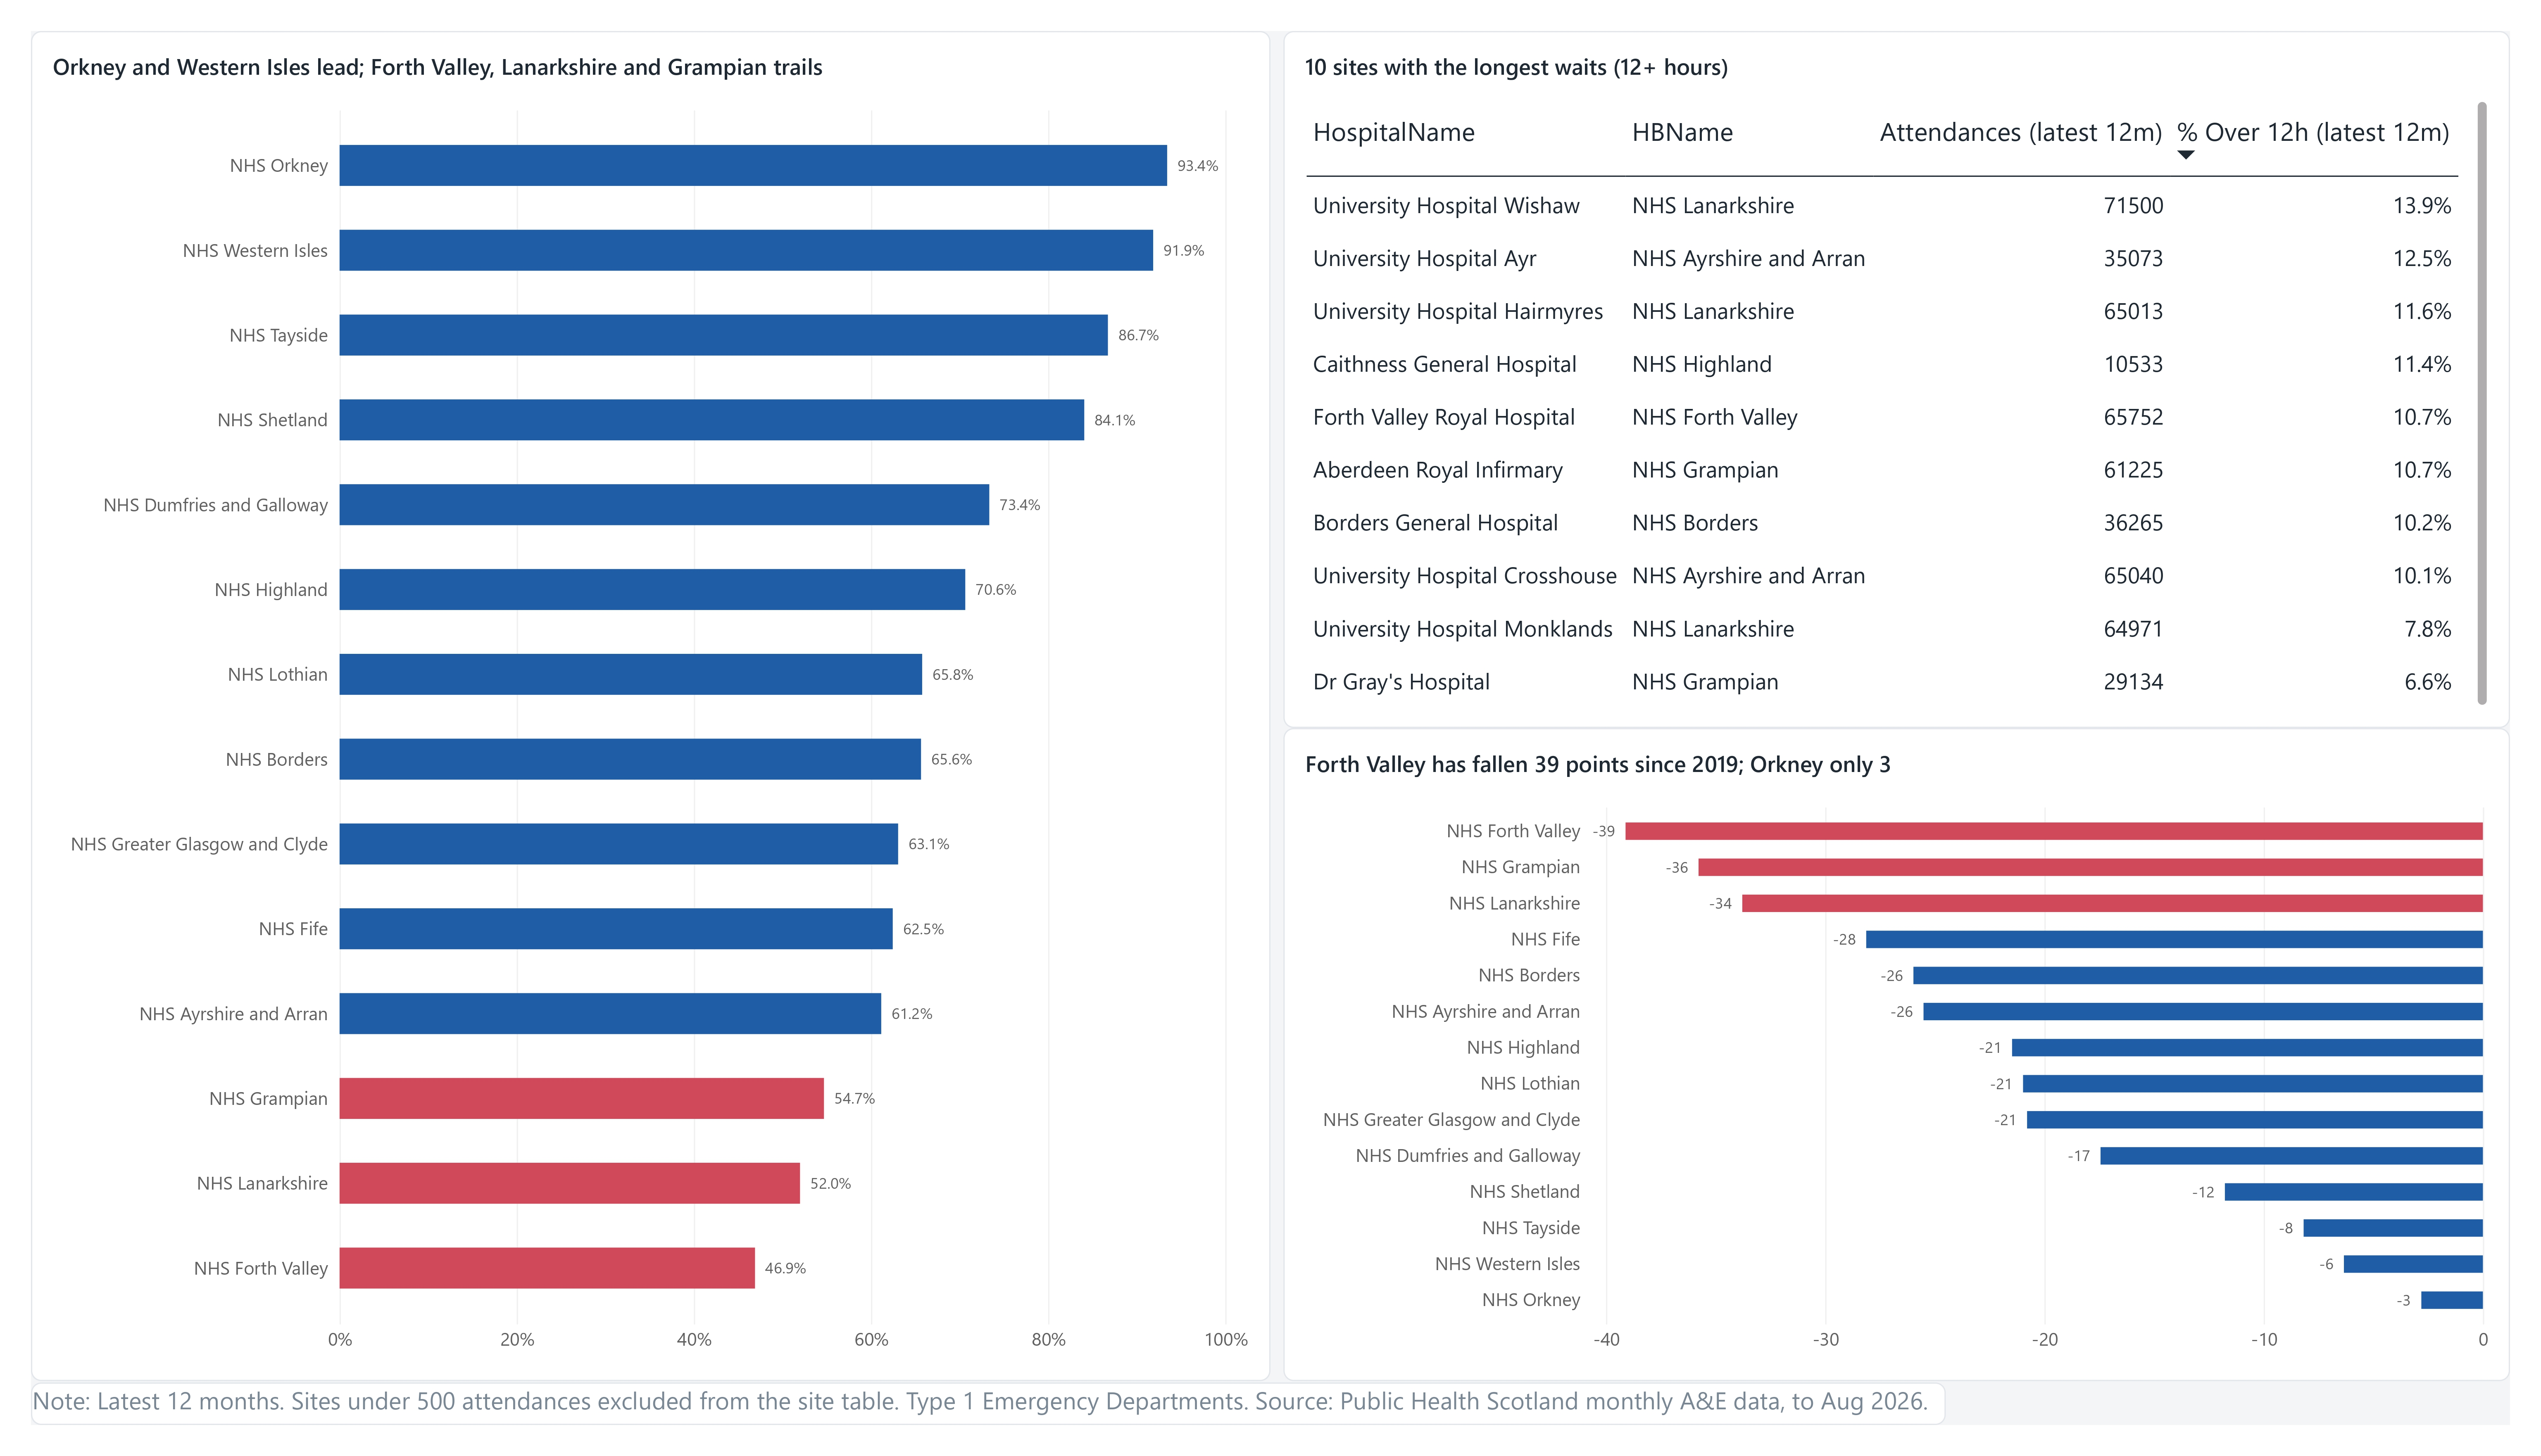

Layout of this report page (visuals, bound fields, positions):
{"tool":"powerbi","page":{"name":"Boards and Sites","canvas":[1920,1080],"ordinal":1},"visuals":[{"type":"barChart","title":"Orkney and Western Isles lead; Forth Valley, Lanarkshire and Grampian trails","fields":{"Category":["ae_clean.HBName"],"Y":["ae_clean.% Within 4h (latest 12m)"]},"box":[0,0,960,1045.7],"z":0},{"type":"tableEx","title":"10 sites with the longest waits (12+ hours)","fields":{"Values":["ae_clean.HospitalName","ae_clean.HBName","ae_clean.Attendances (latest 12m)","ae_clean.% Over 12h (latest 12m)"]},"box":[970,0,950,540],"z":1000},{"type":"barChart","title":"Forth Valley has fallen 39 points since 2019; Orkney only 3","fields":{"Category":["ae_clean.HBName"],"Y":["ae_clean.Change vs 2019 (pts)"]},"box":[970,540,950,505.7],"z":2000},{"type":"textbox","box":[0,1047.1,1482.9,32.9],"z":2001}]}

Visuals, with their boxes on the page's 1920x1080 design canvas (x1, y1, x2, y2). These are canvas units, not pixel positions in the 2541x1456 screenshot, which may show the page scaled, cropped or inside an application window:
"Orkney and Western Isles lead; Forth Valley, Lanarkshire and Grampian trails" barChart: select_region(0, 0, 960, 1046)
"10 sites with the longest waits (12+ hours)" tableEx: select_region(970, 0, 1920, 540)
"Forth Valley has fallen 39 points since 2019; Orkney only 3" barChart: select_region(970, 540, 1920, 1046)
textbox: select_region(0, 1047, 1483, 1080)
